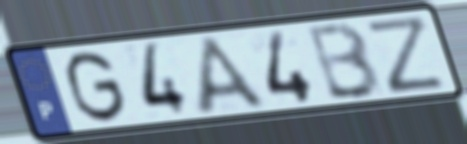4: (139, 39, 193, 121), (263, 27, 315, 106)
A: (195, 33, 274, 118)
B: (305, 19, 384, 102)
G: (63, 48, 130, 126)
Z: (362, 12, 450, 96)
